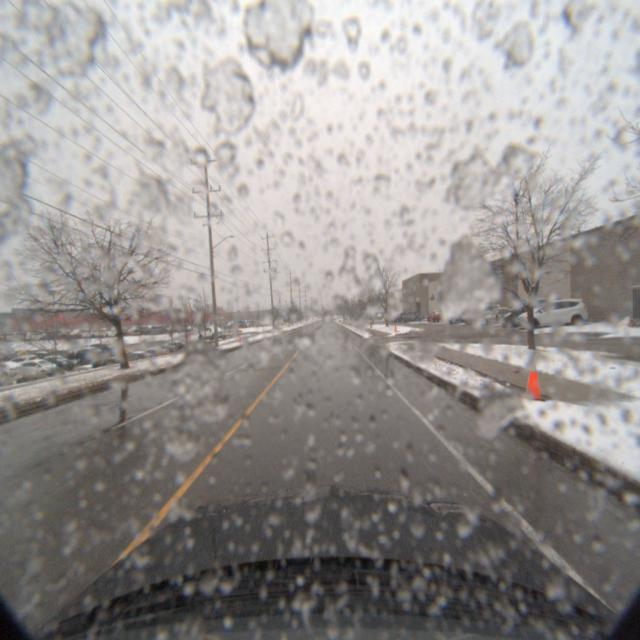Car: (510, 297, 590, 327), (494, 296, 564, 328), (470, 304, 520, 326), (456, 302, 502, 324)
